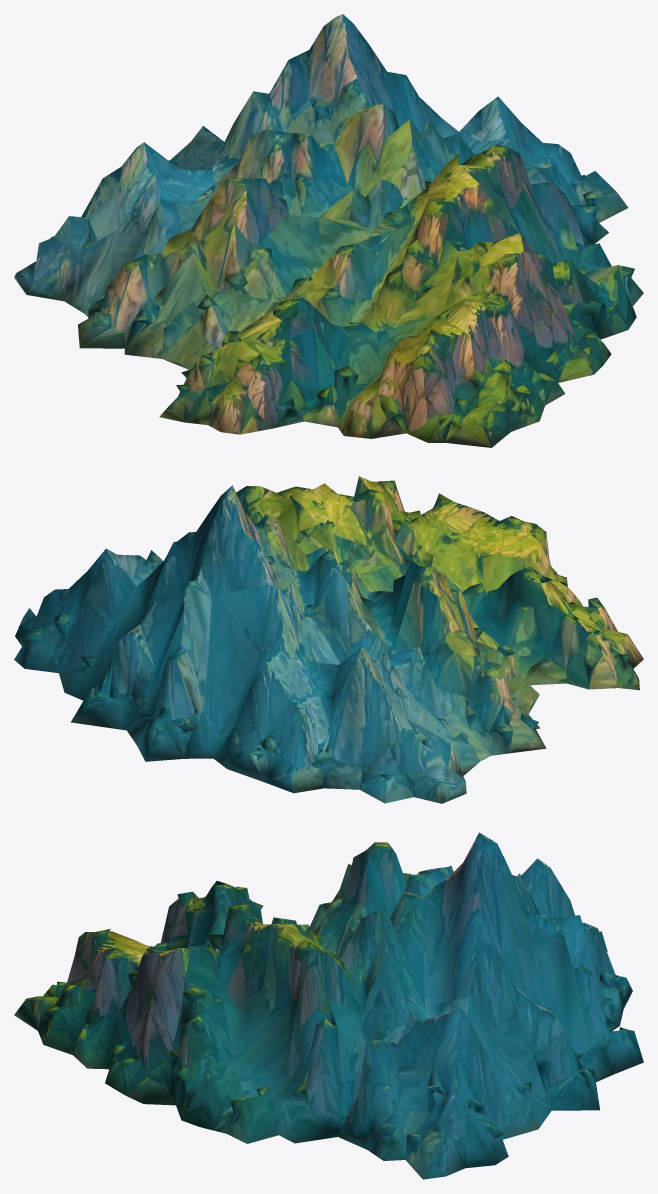
File: mountainB.glb
3 renders of one model, top to bottom at view 1: azimuth 30°, elevation 25°; view 2: azimuth 150°, elevation 25°; view 3: azimuth 270°, elevation 25°, orthographic. The views are drawn at different scales.
Parts seen in each view (by area): view 1: MountainMesh.002; view 2: MountainMesh.002; view 3: MountainMesh.002.
Part boxes in pixels (x1=…): MountainMesh.002: x1=14, y1=14, x2=643, y2=447; MountainMesh.002: x1=14, y1=476, x2=643, y2=803; MountainMesh.002: x1=14, y1=832, x2=643, y2=1179.
Size of the model in its own units: 2 by 0.8 by 2.
1 material, 1 textured.
